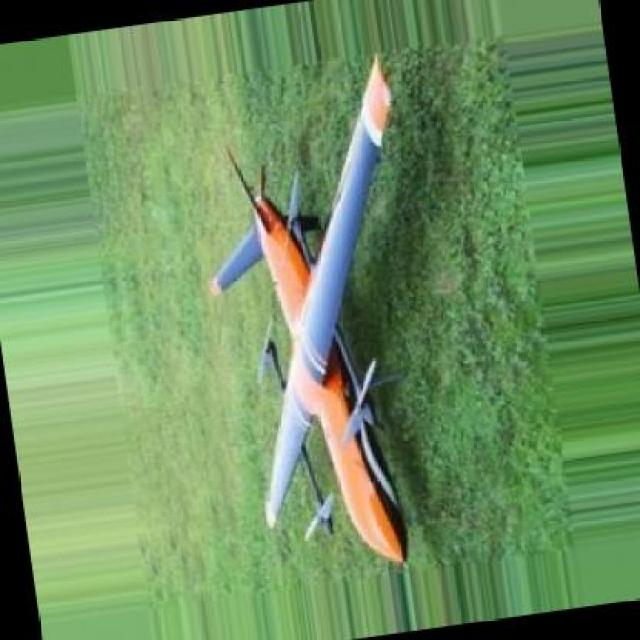iha: (205, 53, 421, 571)
